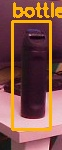bottle: (12, 21, 50, 129)
